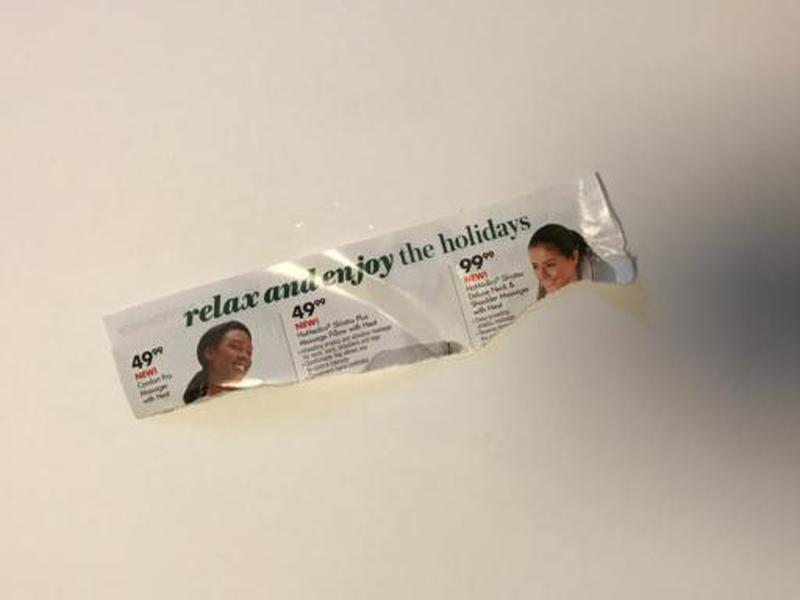paper: (96, 168, 638, 424)
